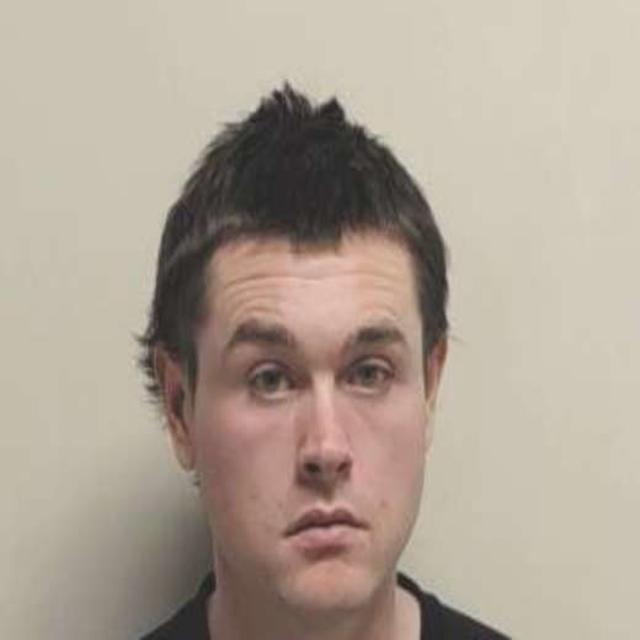mobile_phonerotation: (131, 80, 514, 637)
